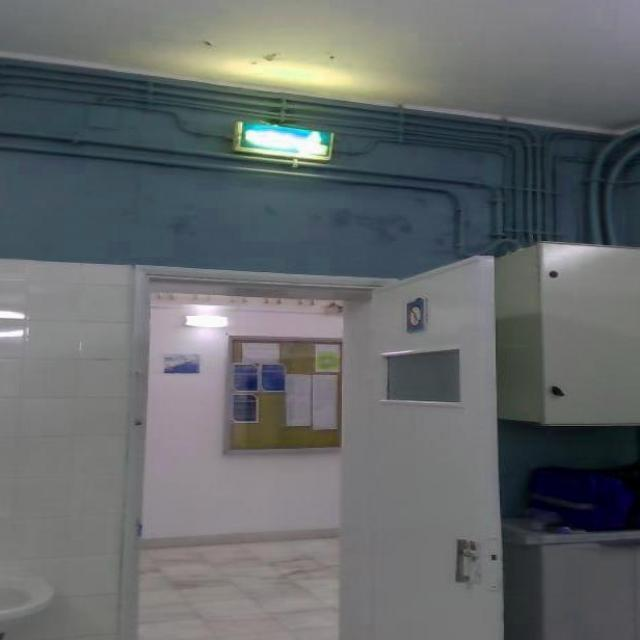door: (339, 253, 504, 638)
